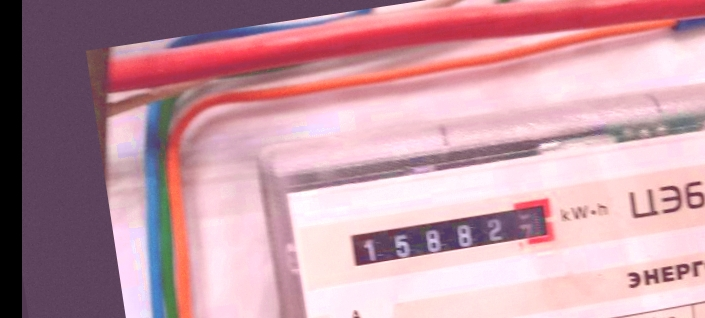1: (362, 236, 379, 263)
2: (486, 214, 506, 242)
5: (393, 231, 412, 258)
7: (518, 220, 534, 237)
8: (423, 226, 444, 252), (455, 220, 474, 247)
screen: (335, 188, 568, 281)
